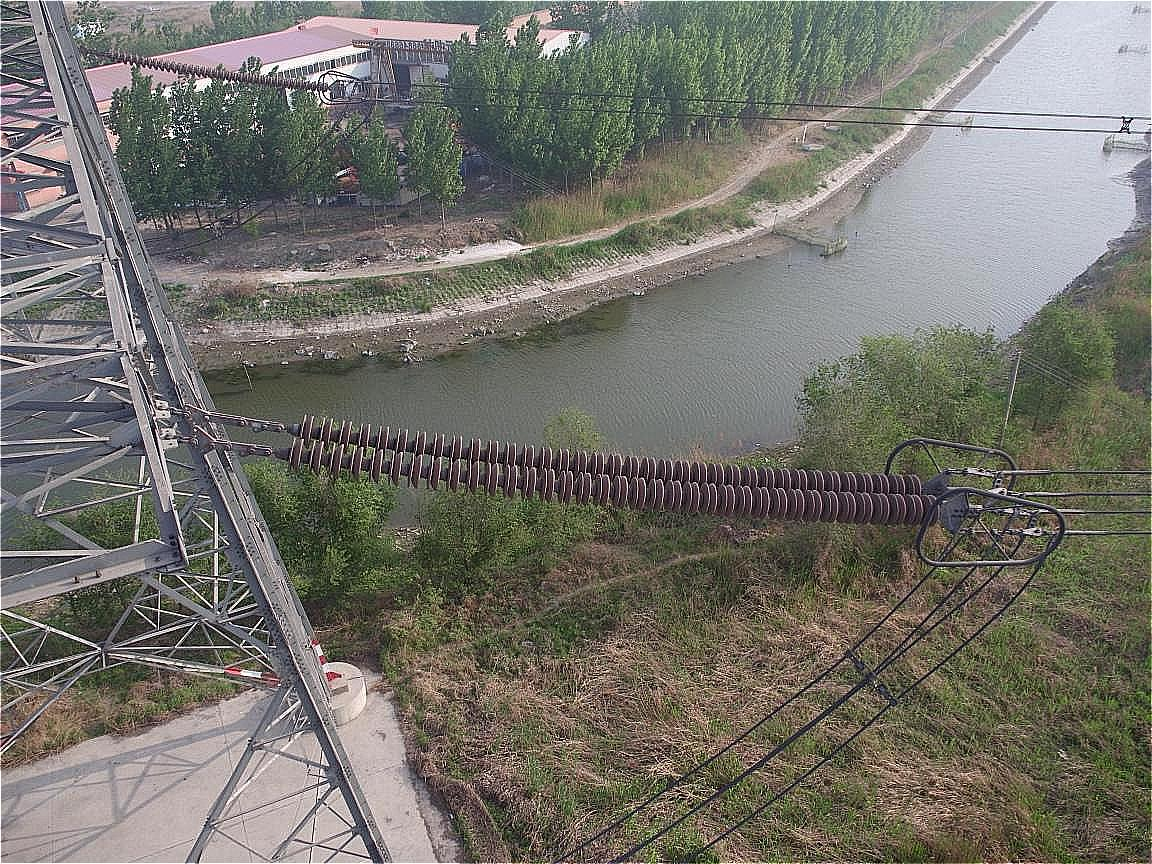insultor2: (287, 412, 941, 528), (110, 50, 328, 97)
